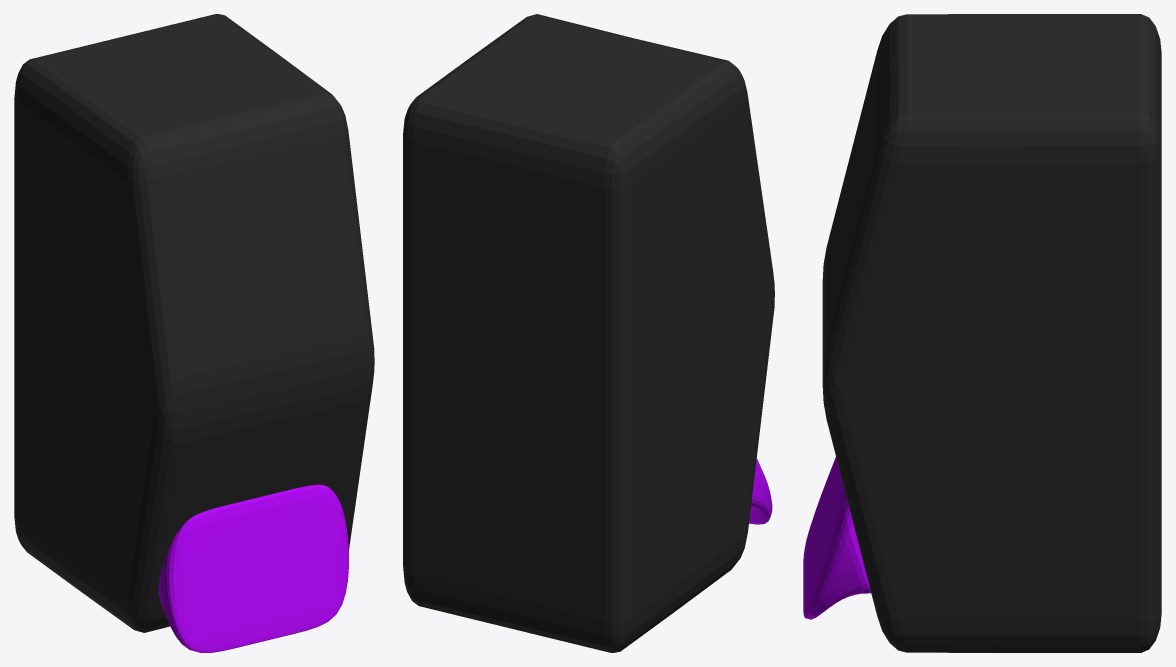
The model's file is HandStainRemover.fbx.
3 views of the same model, side by side, from view 1: azimuth 30°, elevation 25°; view 2: azimuth 150°, elevation 25°; view 3: azimuth 270°, elevation 25° (orthographic). The views are drawn at different scales.
Parts seen in each view (by area): view 1: HandStainRemover, Cube.004; view 2: HandStainRemover, Cube.004; view 3: HandStainRemover, Cube.004.
Part boxes in pixels (<box>): HandStainRemover: <box>14,14,374,632</box>; Cube.004: <box>158,484,348,652</box>; HandStainRemover: <box>403,14,774,652</box>; Cube.004: <box>749,458,772,524</box>; HandStainRemover: <box>822,14,1161,652</box>; Cube.004: <box>803,457,870,619</box>.
Bounding box in the file's own units: 21.32 × 27.79 × 46.13.
